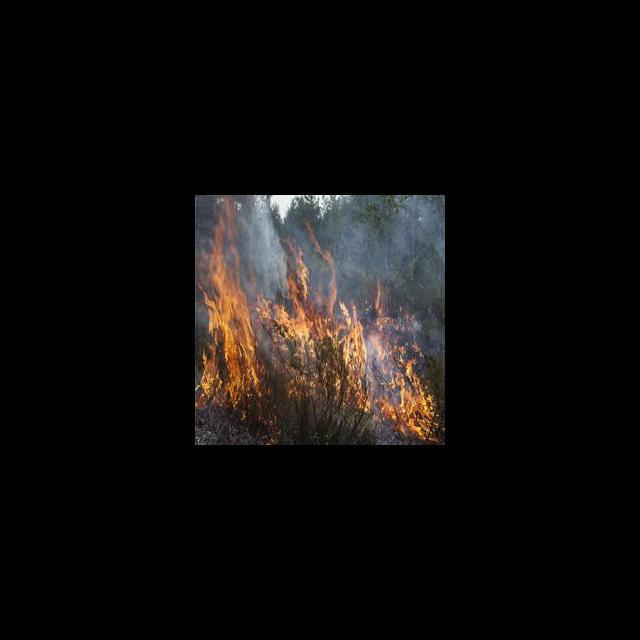Fire: (260, 217, 444, 444), (198, 204, 262, 408)
